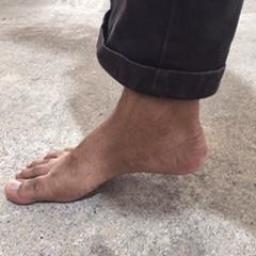Medial View -Right Foot-: (2, 68, 222, 207)
